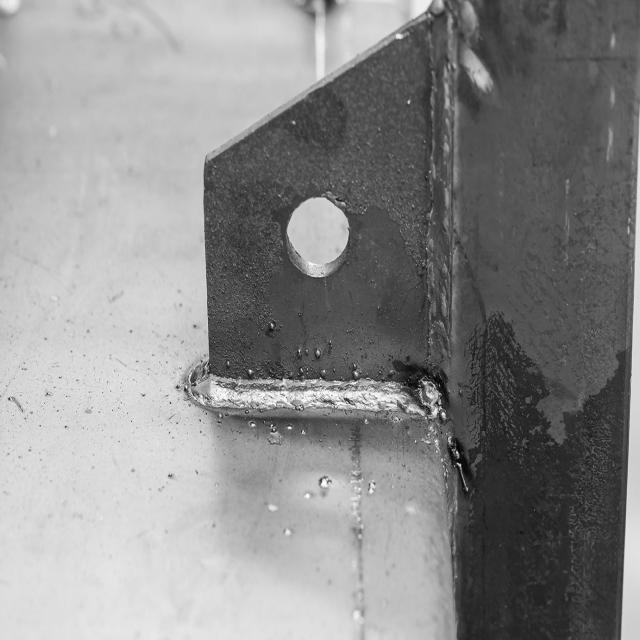Bad Weld: (414, 365, 450, 427), (446, 434, 468, 496)
Good Weld: (206, 368, 396, 414)
